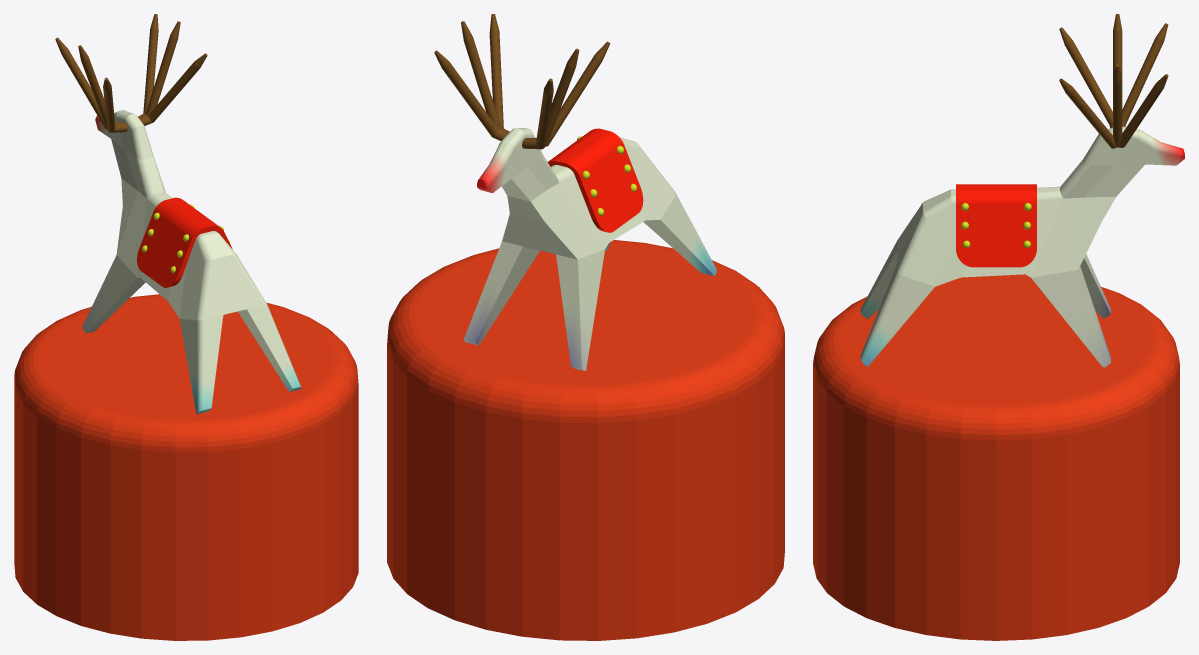
The model's file is tonakaiStatue.glb.
3 views of the same model, side by side, from view 1: azimuth 30°, elevation 25°; view 2: azimuth 150°, elevation 25°; view 3: azimuth 270°, elevation 25° (orthographic). The views are drawn at different scales.
Visible parts, largest first — view 1: 円柱, 立方体.001, 円柱.001, 立方体; view 2: 円柱, 立方体.001, 円柱.001, 立方体; view 3: 円柱, 立方体.001, 立方体, 円柱.001.
Part boxes in pixels (x1=…): 円柱: x1=14, y1=294, x2=358, y2=640; 立方体.001: x1=82, y1=110, x2=301, y2=414; 円柱.001: x1=55, y1=14, x2=207, y2=132; 立方体: x1=137, y1=197, x2=232, y2=287; 円柱: x1=387, y1=240, x2=784, y2=640; 立方体.001: x1=463, y1=128, x2=716, y2=370; 円柱.001: x1=434, y1=14, x2=610, y2=149; 立方体: x1=548, y1=128, x2=643, y2=232; 円柱: x1=813, y1=274, x2=1179, y2=640; 立方体.001: x1=860, y1=126, x2=1184, y2=367; 立方体: x1=956, y1=184, x2=1036, y2=267; 円柱.001: x1=1059, y1=14, x2=1168, y2=148.
Size of the model in its own units: 1.82 by 2.86 by 1.84.
Materials: 5 (1 with a texture image).
